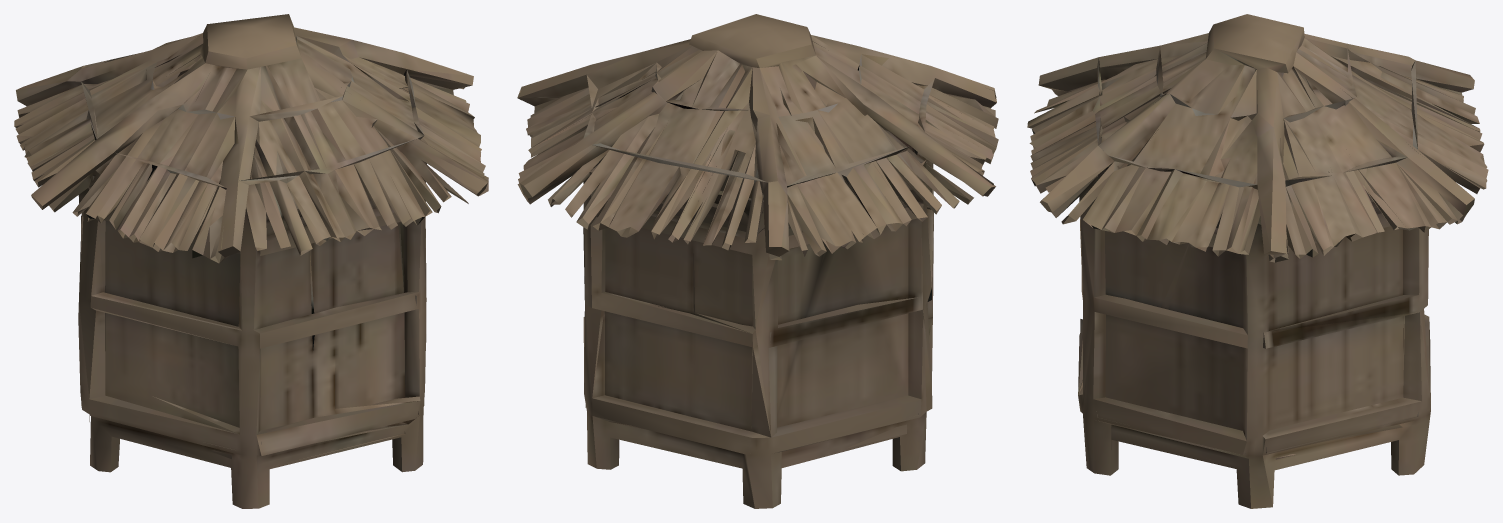
The picture shows the model from 3 angles, left to right: view 1: azimuth 30°, elevation 25°; view 2: azimuth 150°, elevation 25°; view 3: azimuth 270°, elevation 25°; orthographic projection.
Visible parts, largest first — view 1: geometry_0; view 2: geometry_0; view 3: geometry_0.
Boxes of the visible parts, bbox=[...] form: geometry_0: bbox=[14, 14, 488, 508]; geometry_0: bbox=[517, 14, 998, 508]; geometry_0: bbox=[1027, 14, 1488, 508].
Bounding box in the file's own units: 1 × 0.843 × 0.8763.
Materials: 1 (1 with a texture image).
